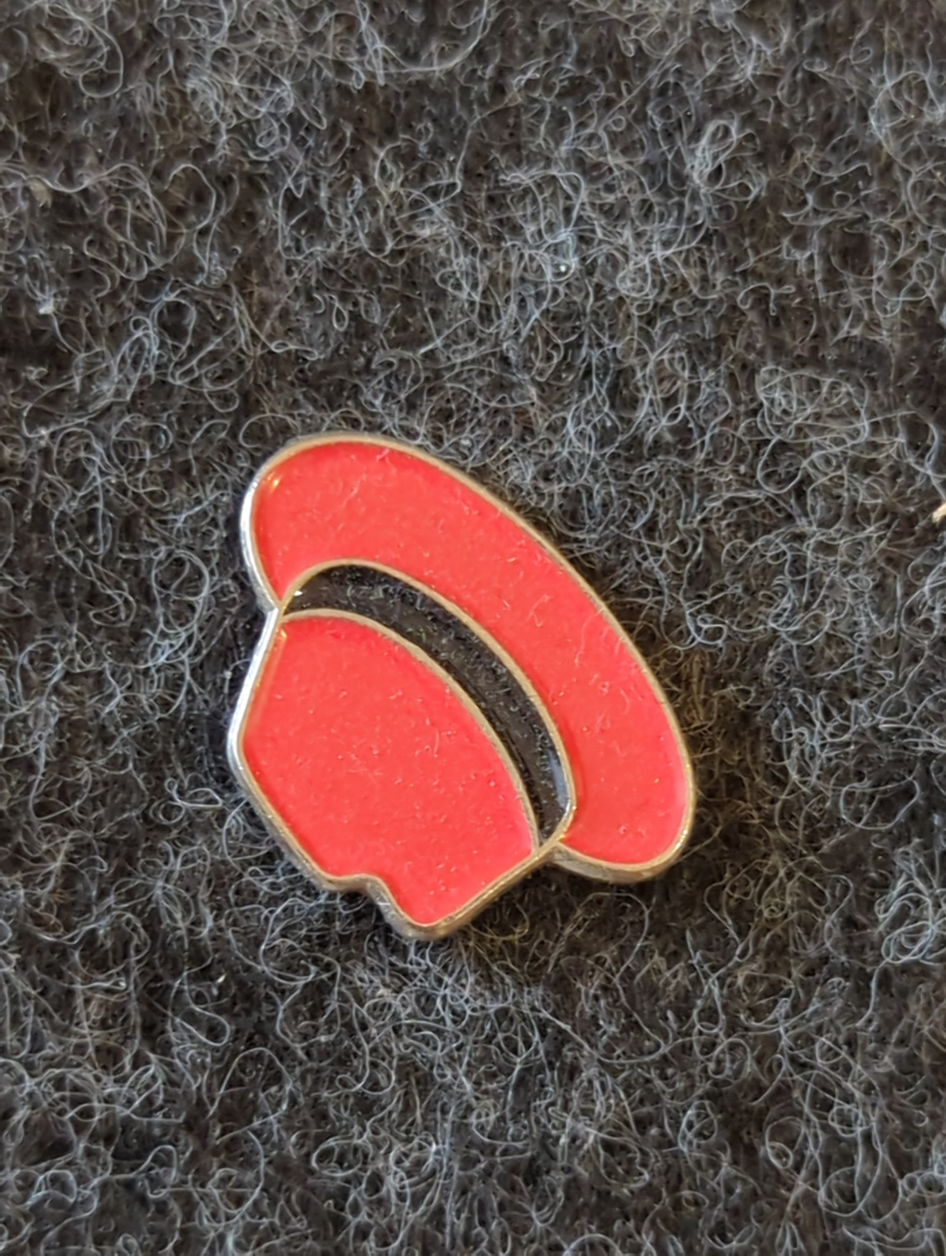Red-Hat: (87, 308, 781, 1081)
